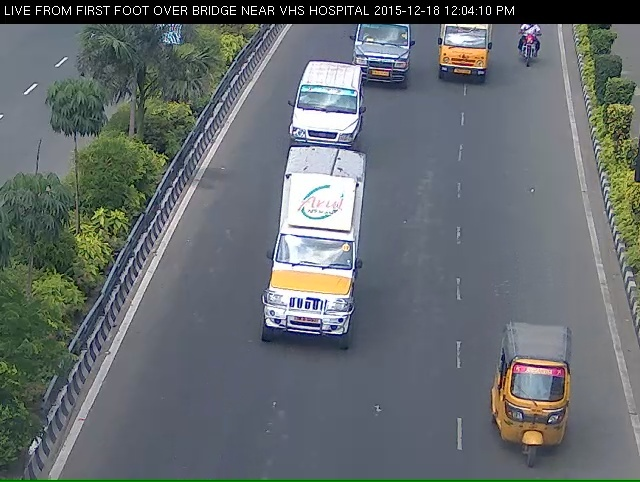Car: (259, 180, 354, 369), (480, 352, 575, 472), (281, 78, 364, 170), (344, 26, 410, 97), (431, 26, 497, 97)
Person: (513, 23, 552, 92)
